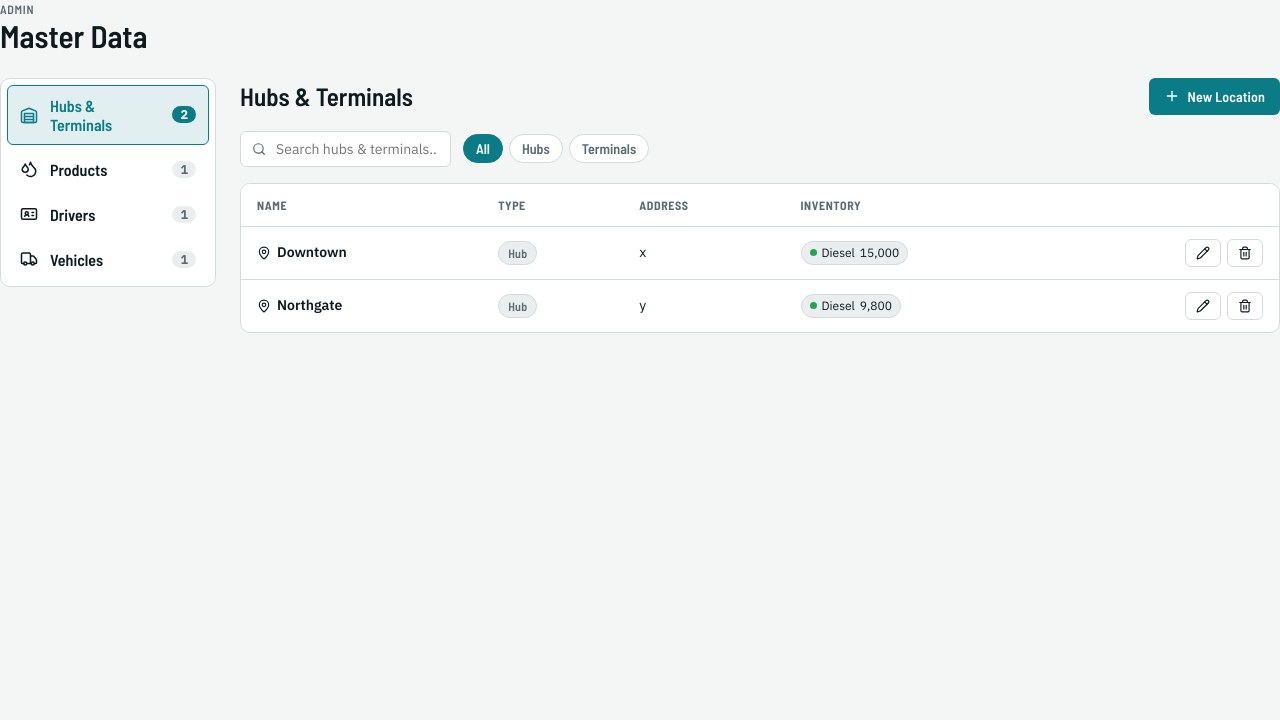
Test case: MasterDataPage › deletes a location after confirmation
Expected: the text "Downtown" is shown, [257,243,347,261]
Step 1. Click the button named "Delete" in the row of "Downtown" → point(1245, 253), box [1227,239,1263,267]
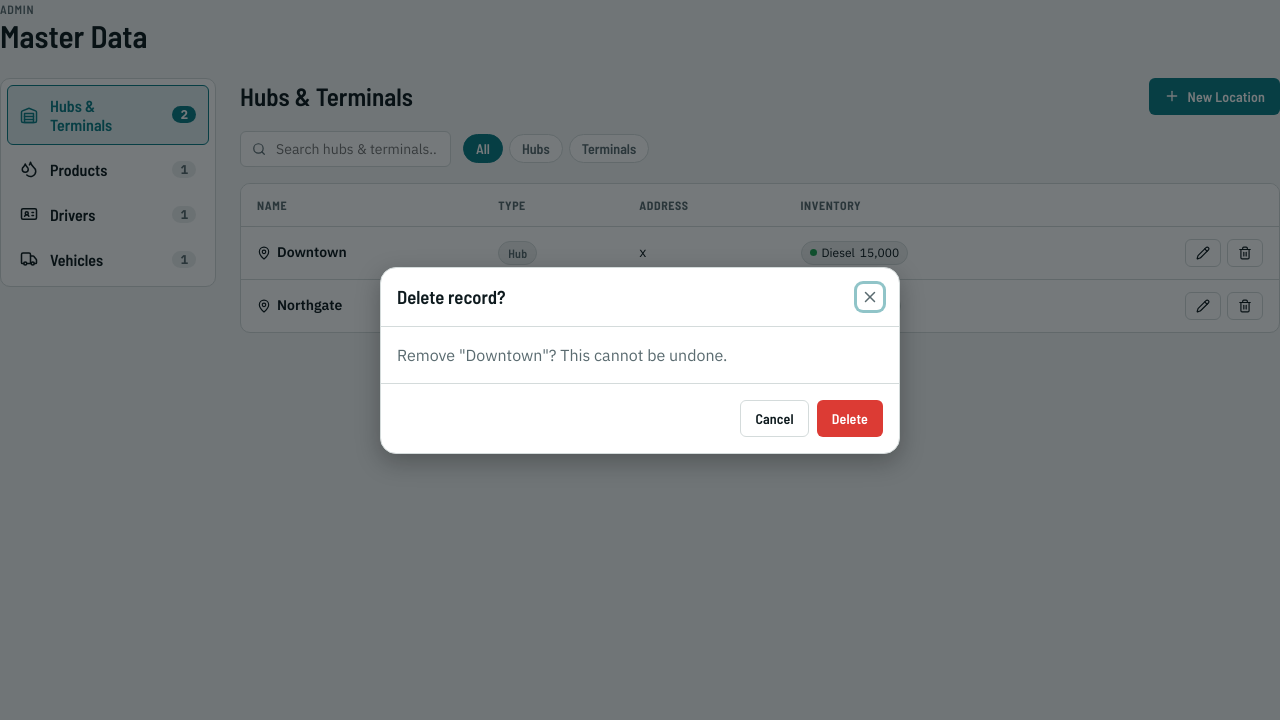
// row delete buttons also carry aria-label "Delete", so scope to the confirm dialog
Step 2. Click the button "Delete" → point(850, 418), box [817,400,883,436]
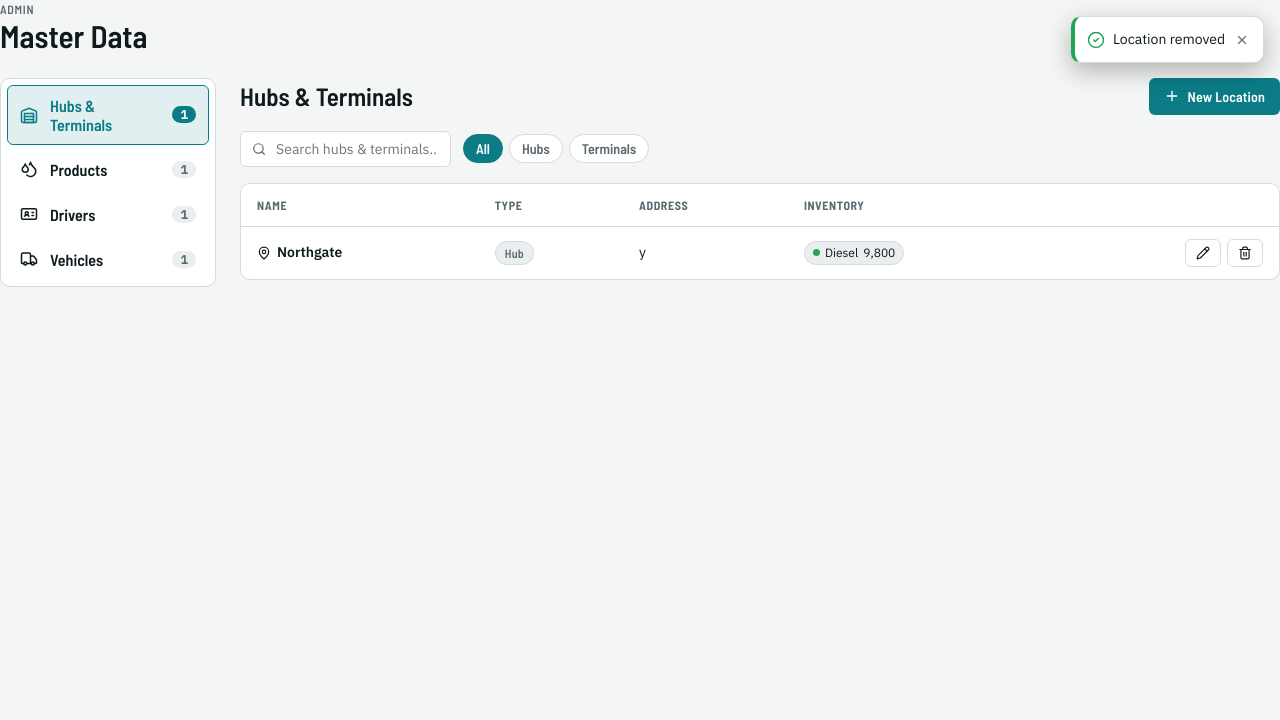
Now the text "Downtown" is gone
